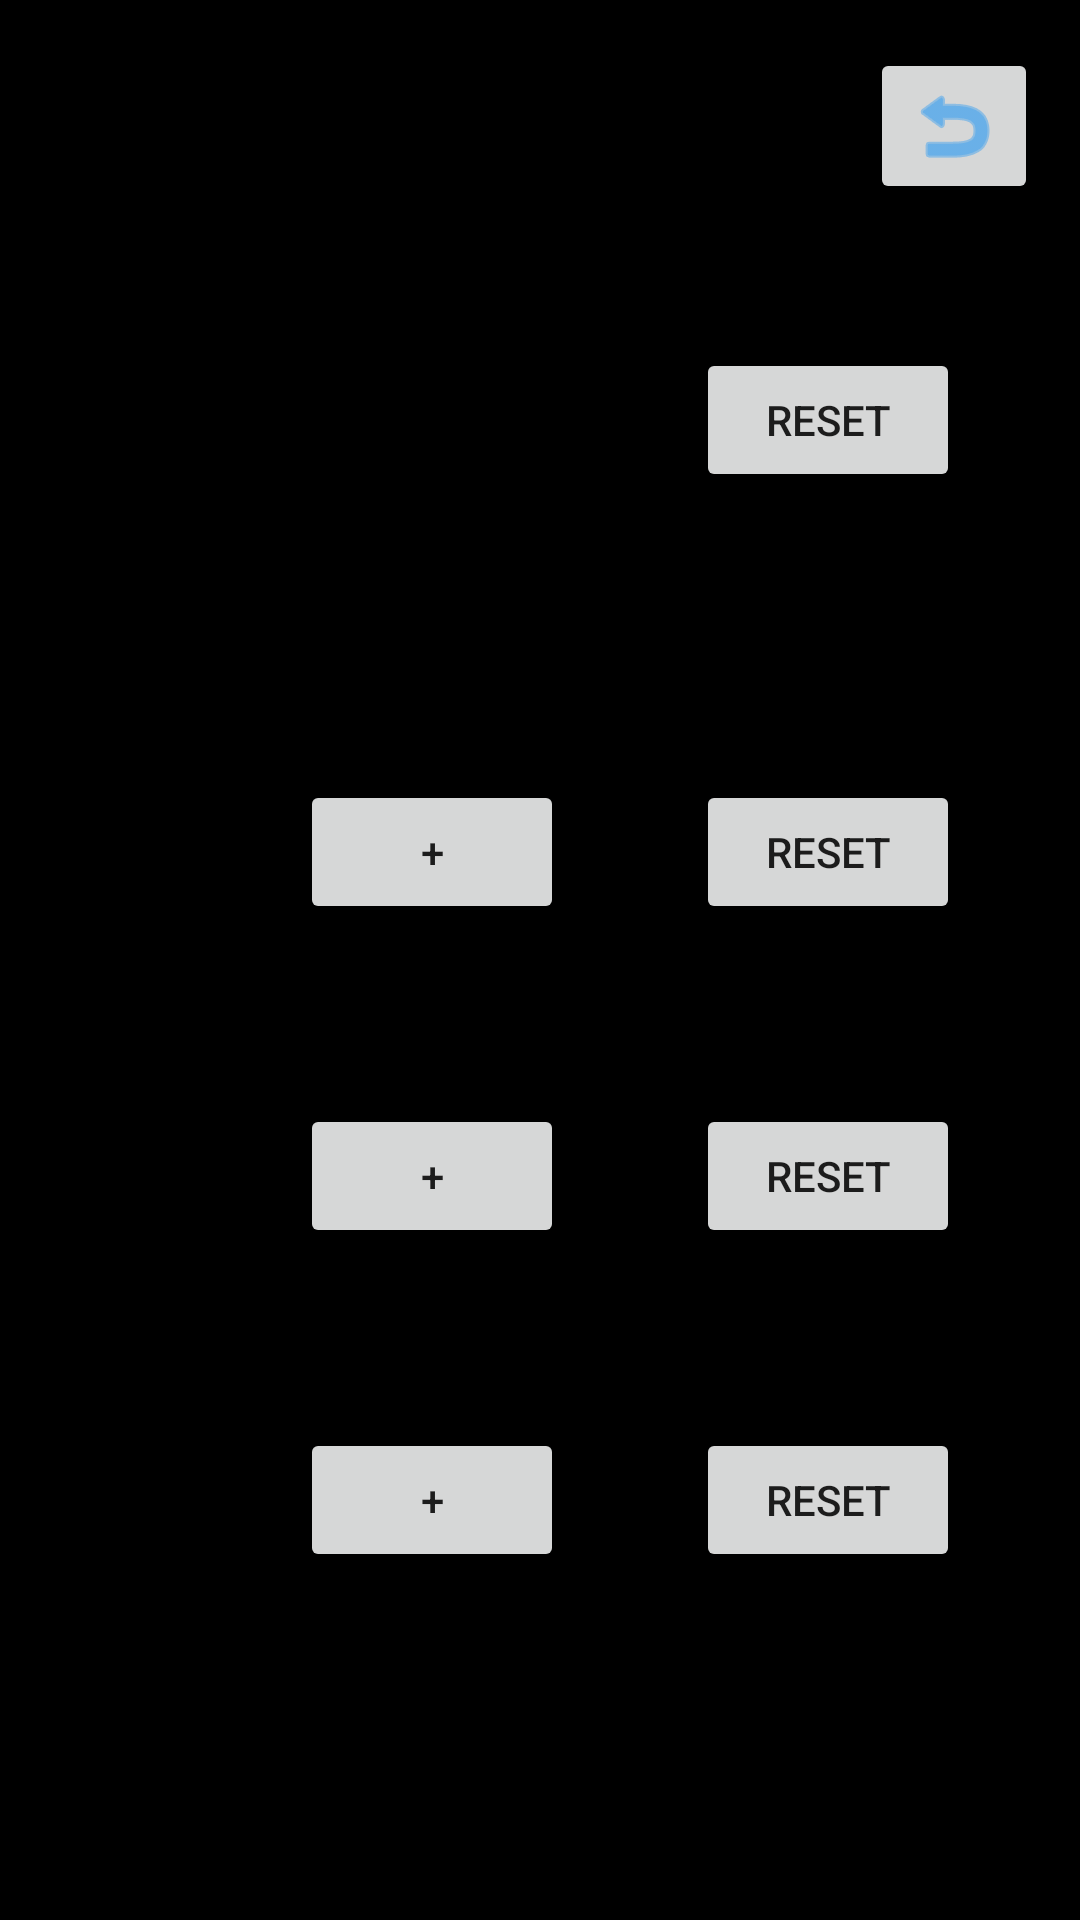

Icon click points for this 1080x1920 phone screenshot, format point (x, y):
revert: point (954, 126)
